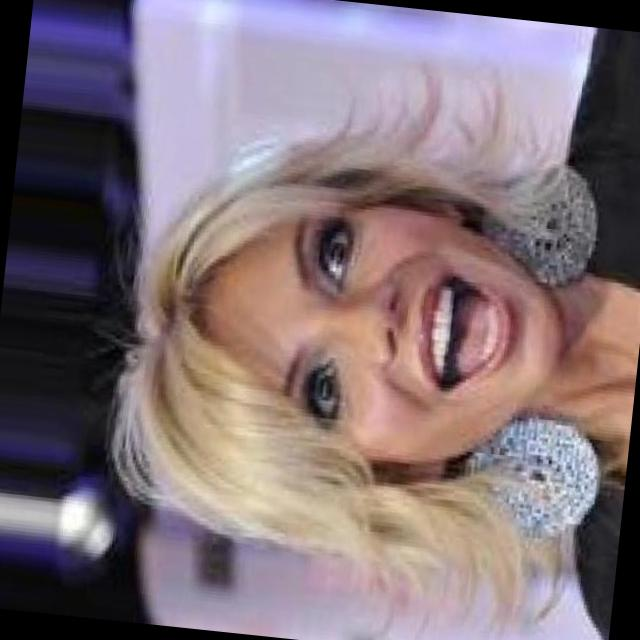bareface: (171, 175, 573, 518)
